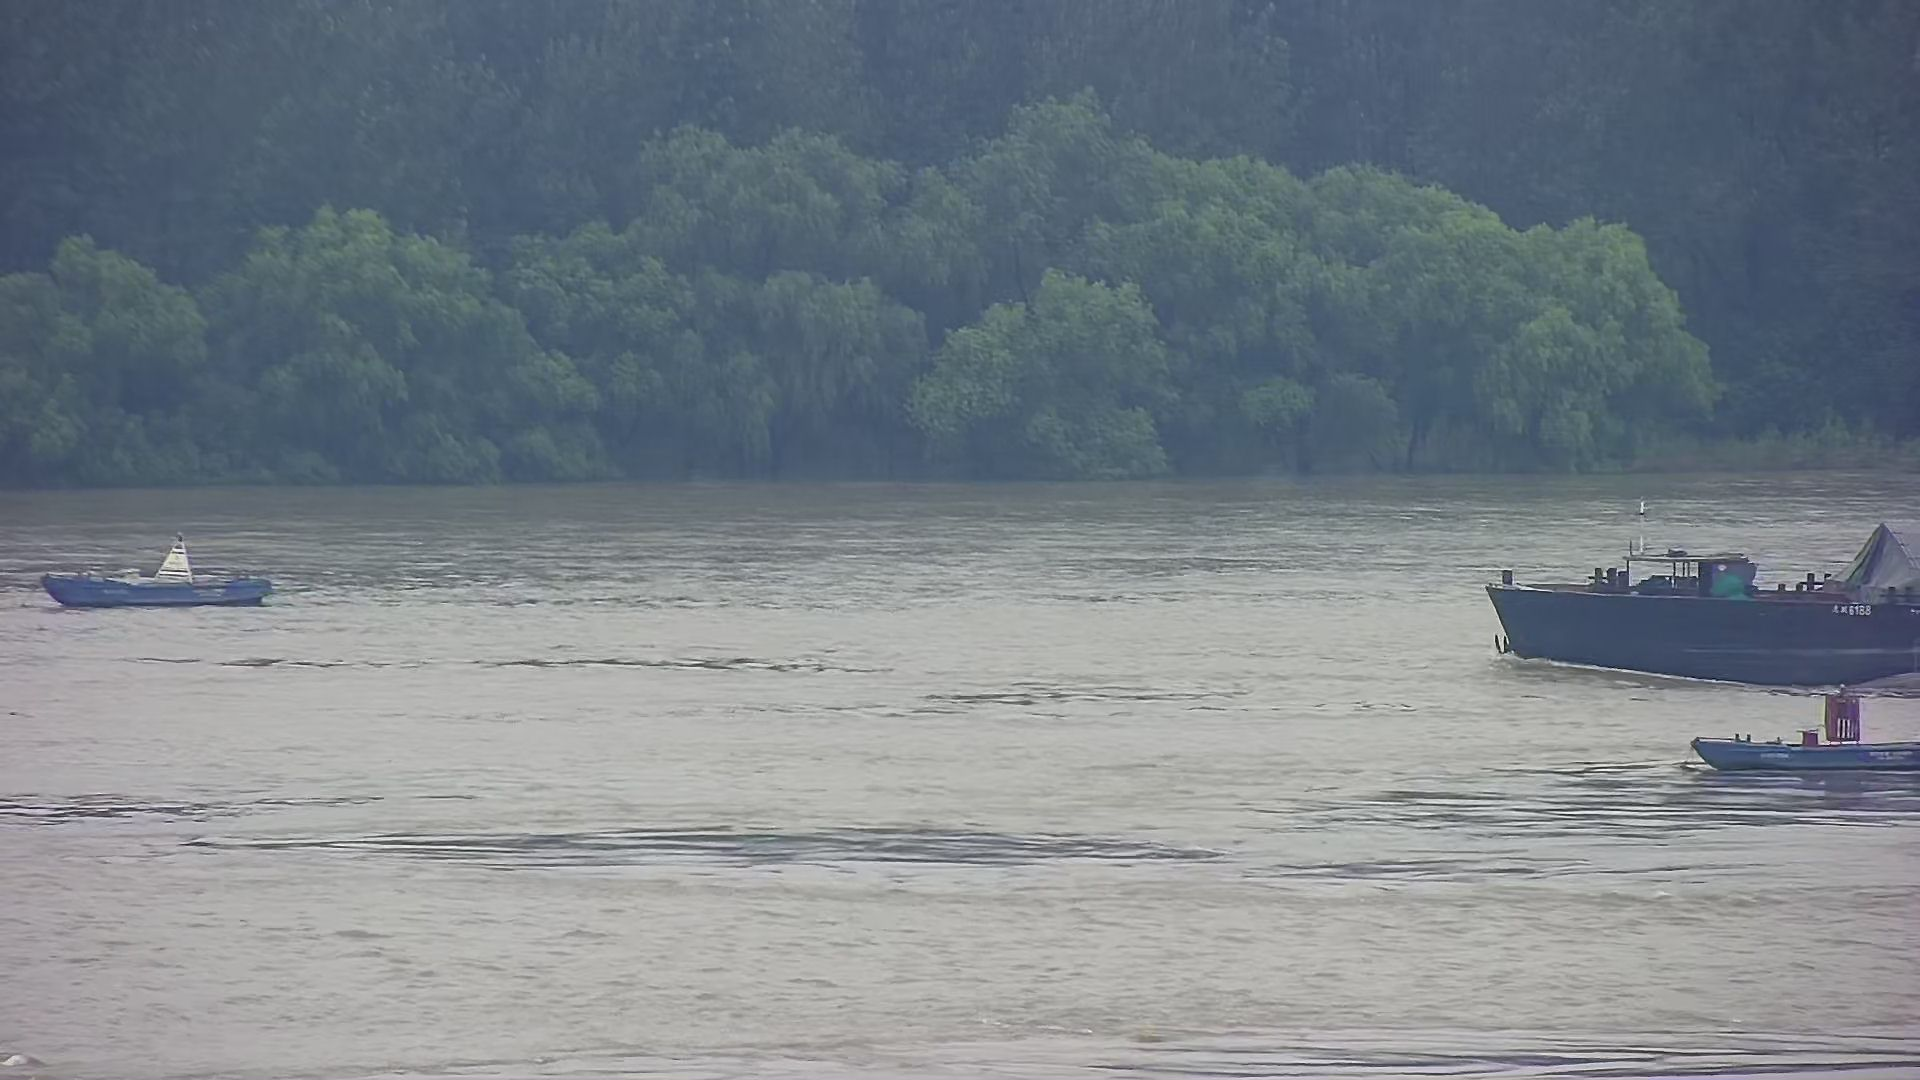boat: (44, 529, 262, 611), (1692, 696, 1920, 774)
ship: (1484, 498, 1920, 688)
